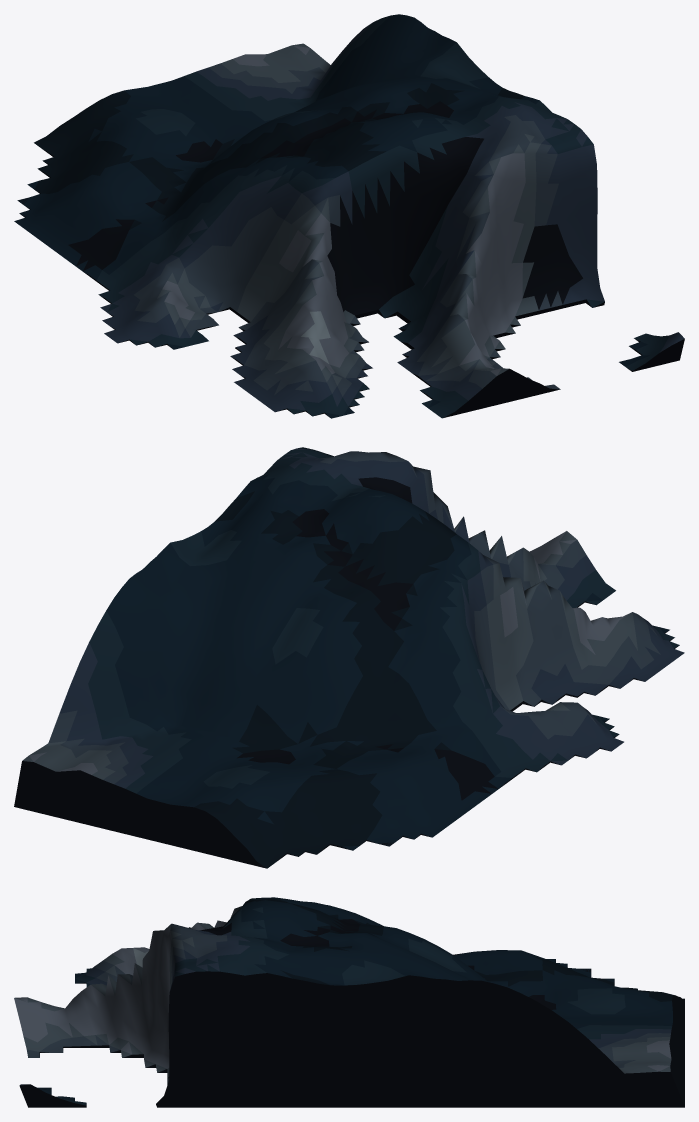
File: gyges_maw_115.glb
3 views of the same model, one above another, from view 1: azimuth 30°, elevation 25°; view 2: azimuth 150°, elevation 25°; view 3: azimuth 270°, elevation 25° (orthographic). The views are drawn at different scales.
Parts seen in each view (by area): view 1: gyges_maw_115; view 2: gyges_maw_115; view 3: gyges_maw_115.
Part boxes in pixels (bbox=[...]): gyges_maw_115: bbox=[14, 14, 684, 418]; gyges_maw_115: bbox=[14, 447, 684, 868]; gyges_maw_115: bbox=[14, 897, 684, 1107].
Size of the model in its own units: 17 by 6.95 by 28.6.
